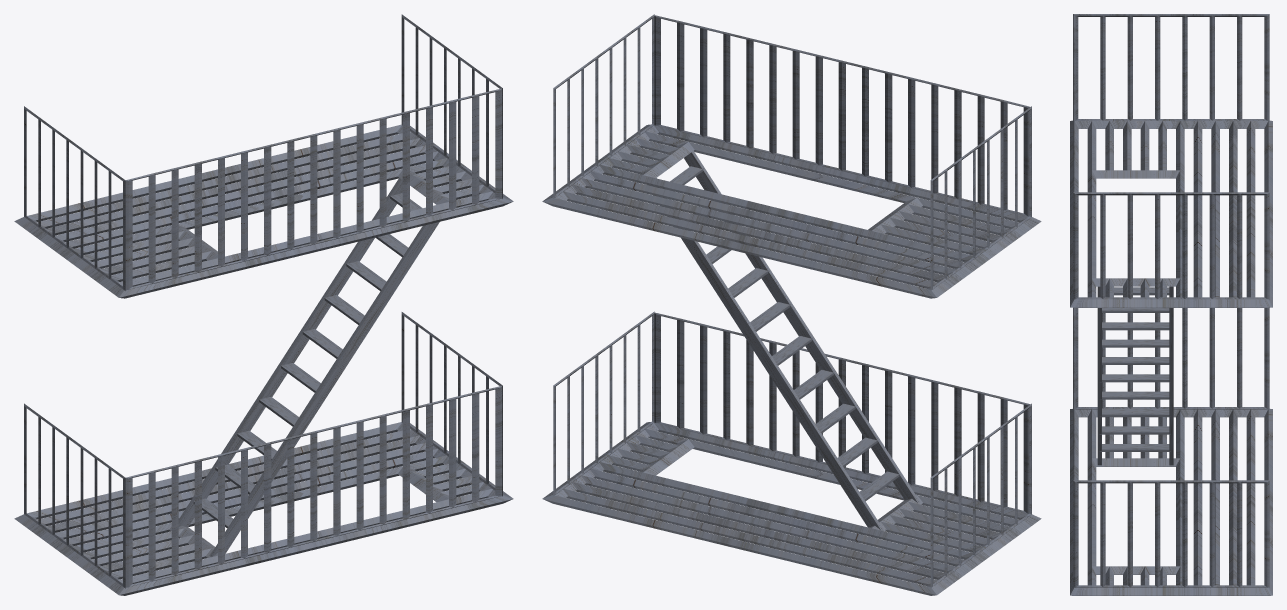
The model's file is fire_escape 1.glb.
The picture shows the model from 3 angles, left to right: view 1: azimuth 30°, elevation 25°; view 2: azimuth 150°, elevation 25°; view 3: azimuth 270°, elevation 25°; orthographic projection. The views are drawn at different scales.
Parts seen in each view (by area): view 1: repeat-base_1, top-base_2; view 2: repeat-base_1, top-base_2; view 3: repeat-base_1, top-base_2.
Part boxes in pixels (x1,y1,x2,y2): repeat-base_1: (14,178,513,595); top-base_2: (14,14,513,298); repeat-base_1: (542,151,1041,595); top-base_2: (542,14,1041,298); repeat-base_1: (1070,286,1272,595); top-base_2: (1070,14,1272,307).
Size of the model in its own units: 11.83 by 11.91 by 5.43.
Materials: 1 (1 with a texture image).
